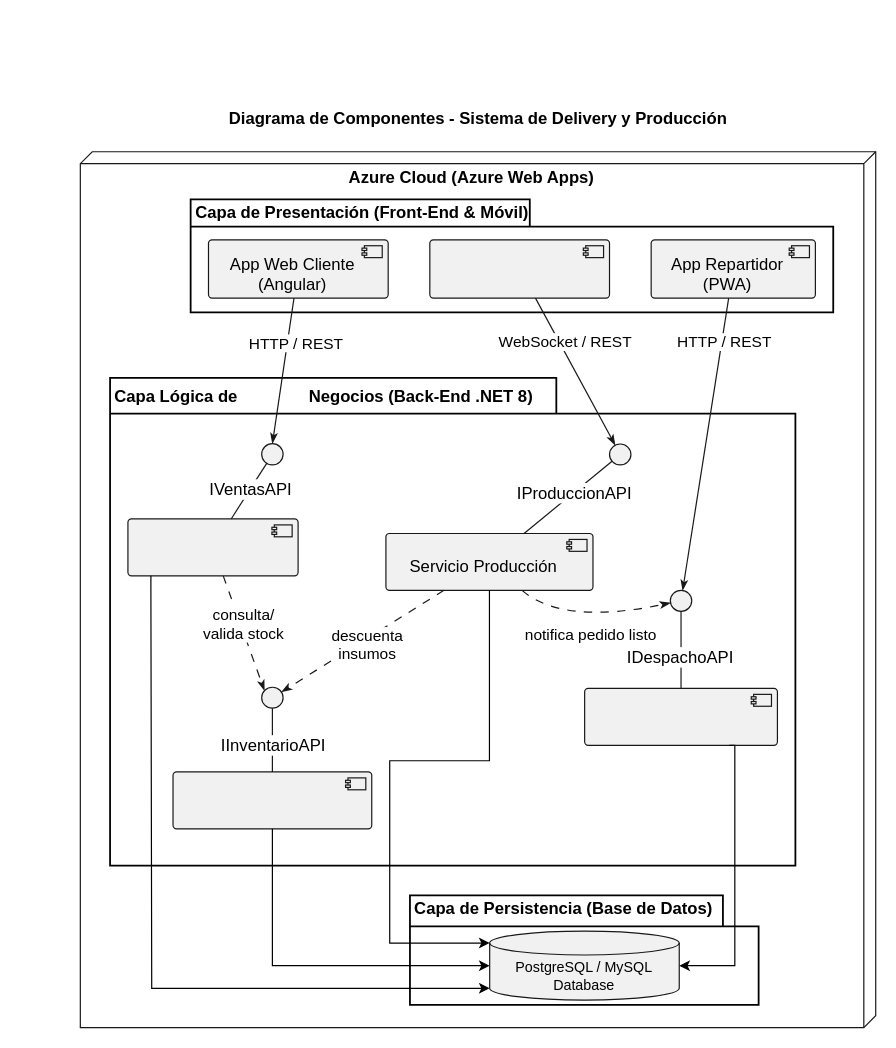
The diagram is 896 pixels wide and 1048 high, and some of its shapes have lost their labels. The centre of each missing label's shape, as x and y in pixels:
"Servicio Despacho" goes at (680,716).
"Servicio Inventario" goes at (272,800).
"Servicio Ventas" goes at (212,547).
"Tablet Cocina (Angular)" goes at (519,268).
